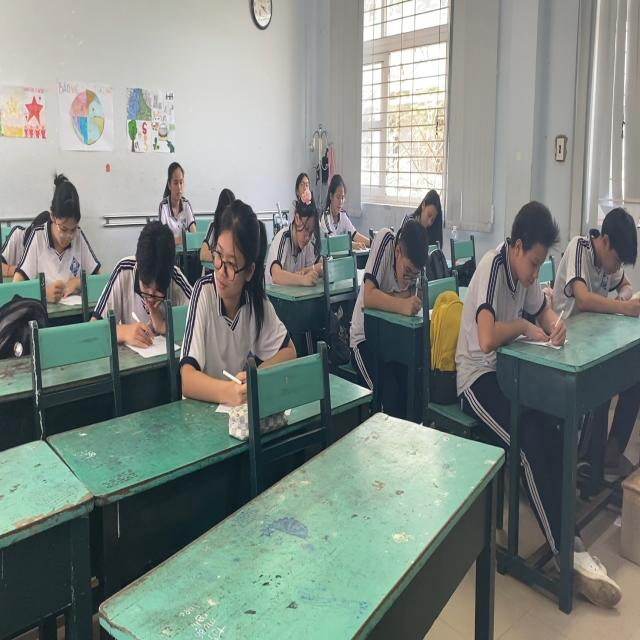cheating: (196, 186, 276, 379)
not_cheating: (472, 190, 564, 338), (564, 183, 640, 321), (19, 169, 100, 283), (112, 221, 188, 342), (268, 190, 320, 286), (373, 217, 425, 311), (318, 166, 358, 245), (404, 187, 447, 249), (163, 155, 194, 231)
